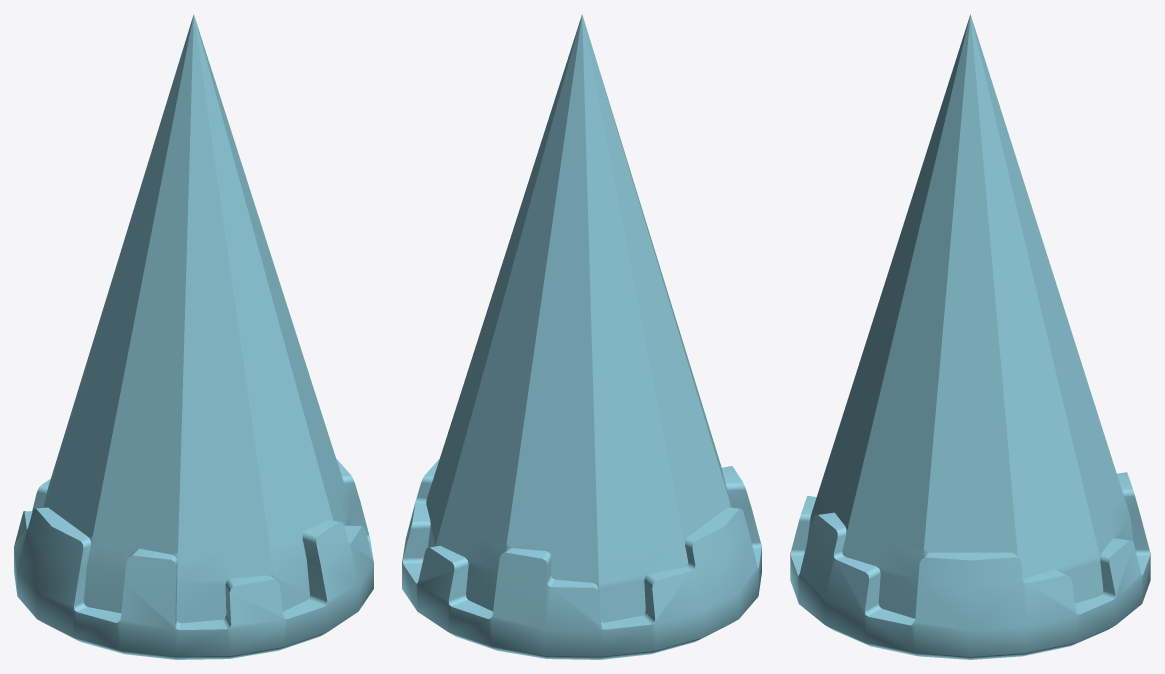
Rendered from Icicle.fbx.
3 renders of one model, left to right at view 1: azimuth 30°, elevation 25°; view 2: azimuth 150°, elevation 25°; view 3: azimuth 270°, elevation 25°, orthographic.
Visible parts, largest first — view 1: cone_reference2; view 2: cone_reference2; view 3: cone_reference2.
Part boxes in pixels (x1,y1,x2,y2): cone_reference2: (14, 14, 373, 659); cone_reference2: (402, 14, 761, 659); cone_reference2: (790, 14, 1150, 659).
Size of the model in its own units: 1.62 by 2.85 by 1.62.
